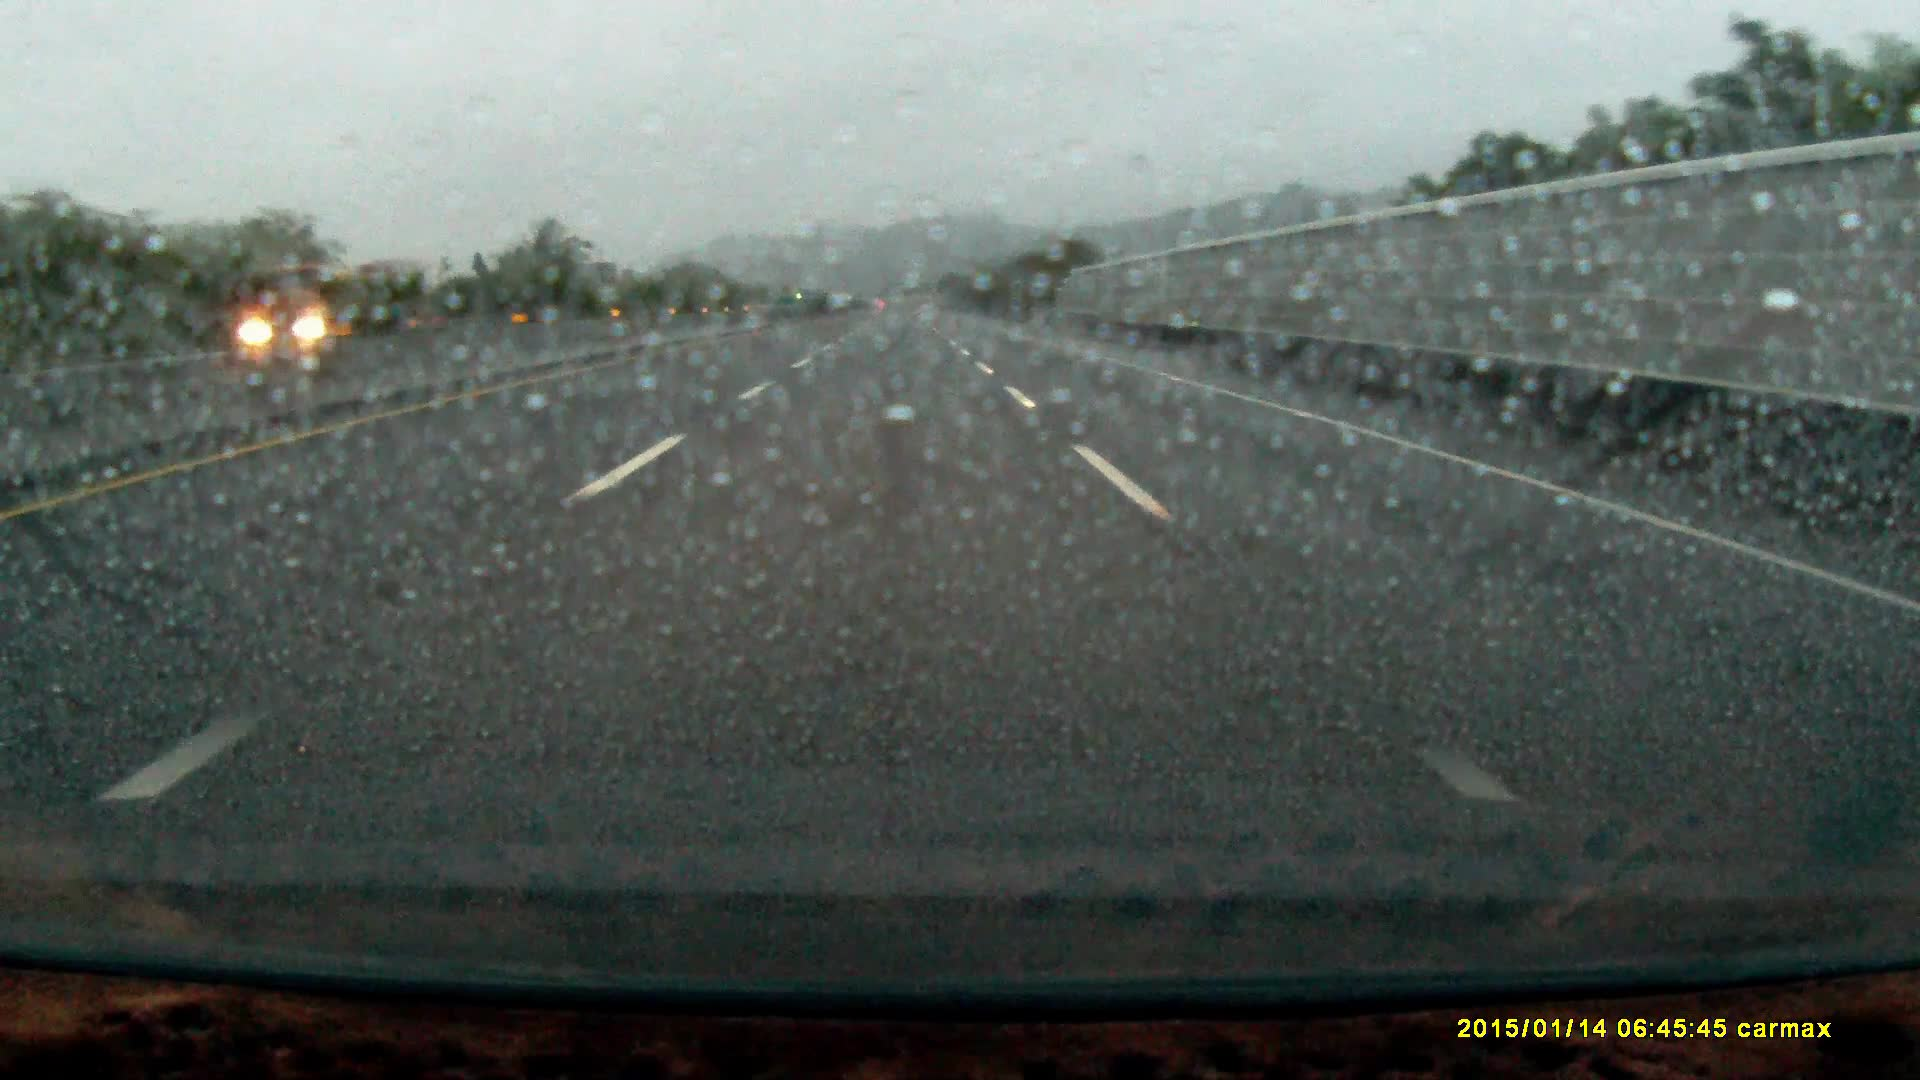vehicle: (231, 262, 415, 360)
